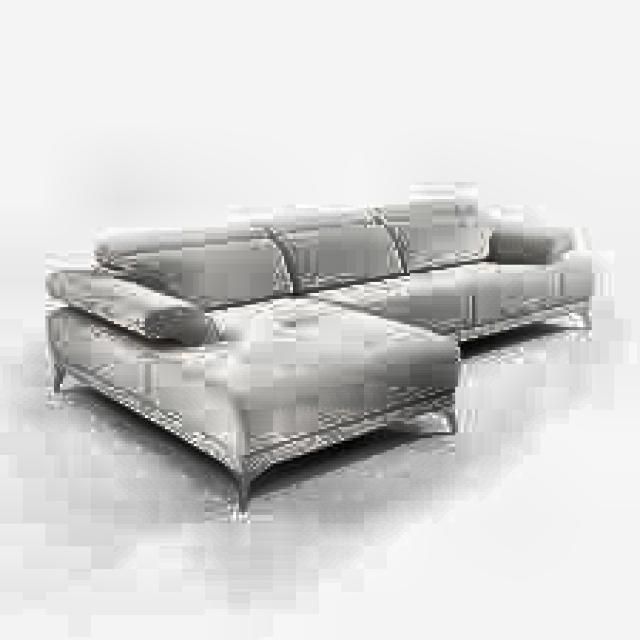sofa: (37, 210, 592, 467)
